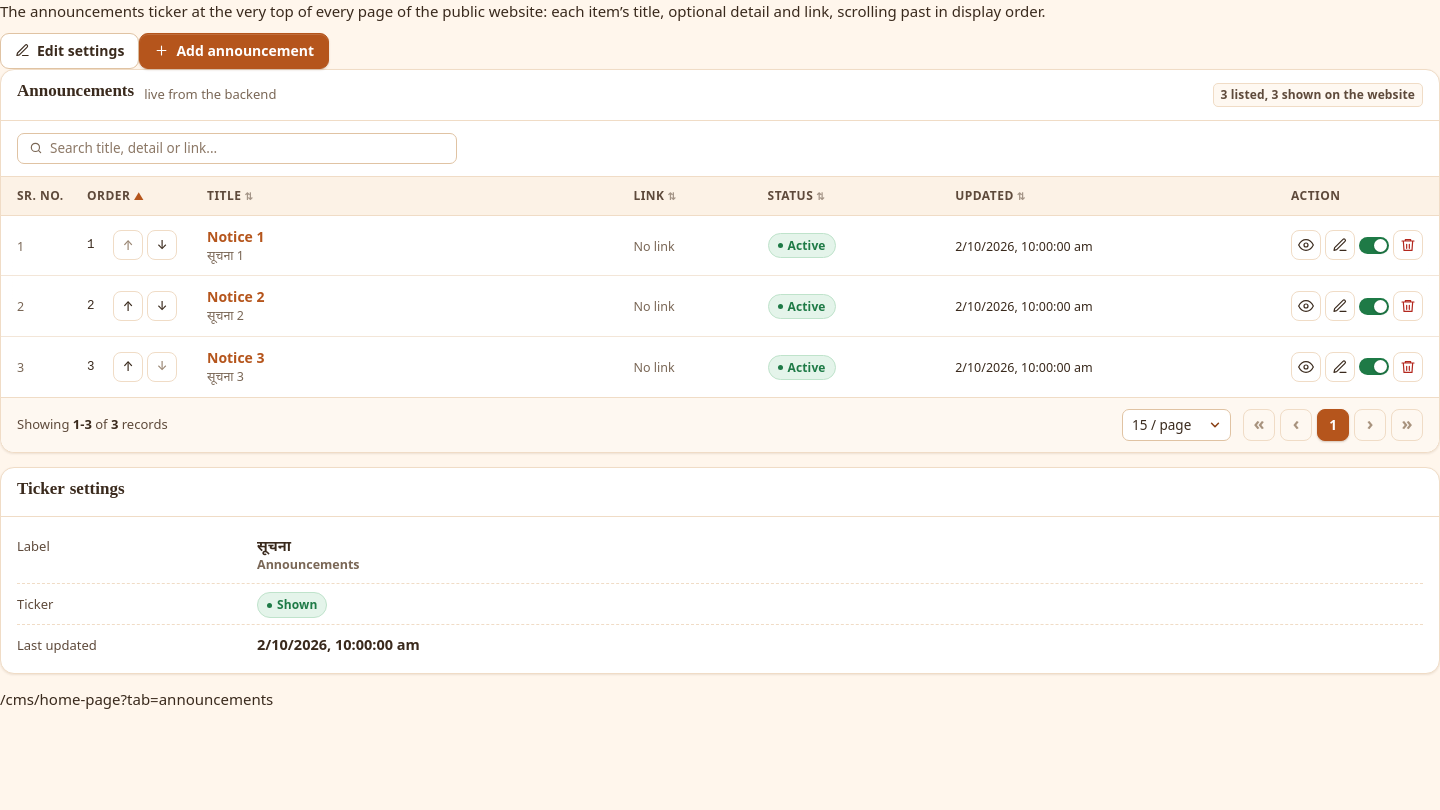
Announcements list › deletes the announcement named in the dialog, by id — and Cancel deletes nothing
Expected: the text "Notice 2" is shown, 207,287 -> 264,306
Click the button named "Delete Notice 2". click: (1408, 306)
box: 1393,291 -> 1423,321
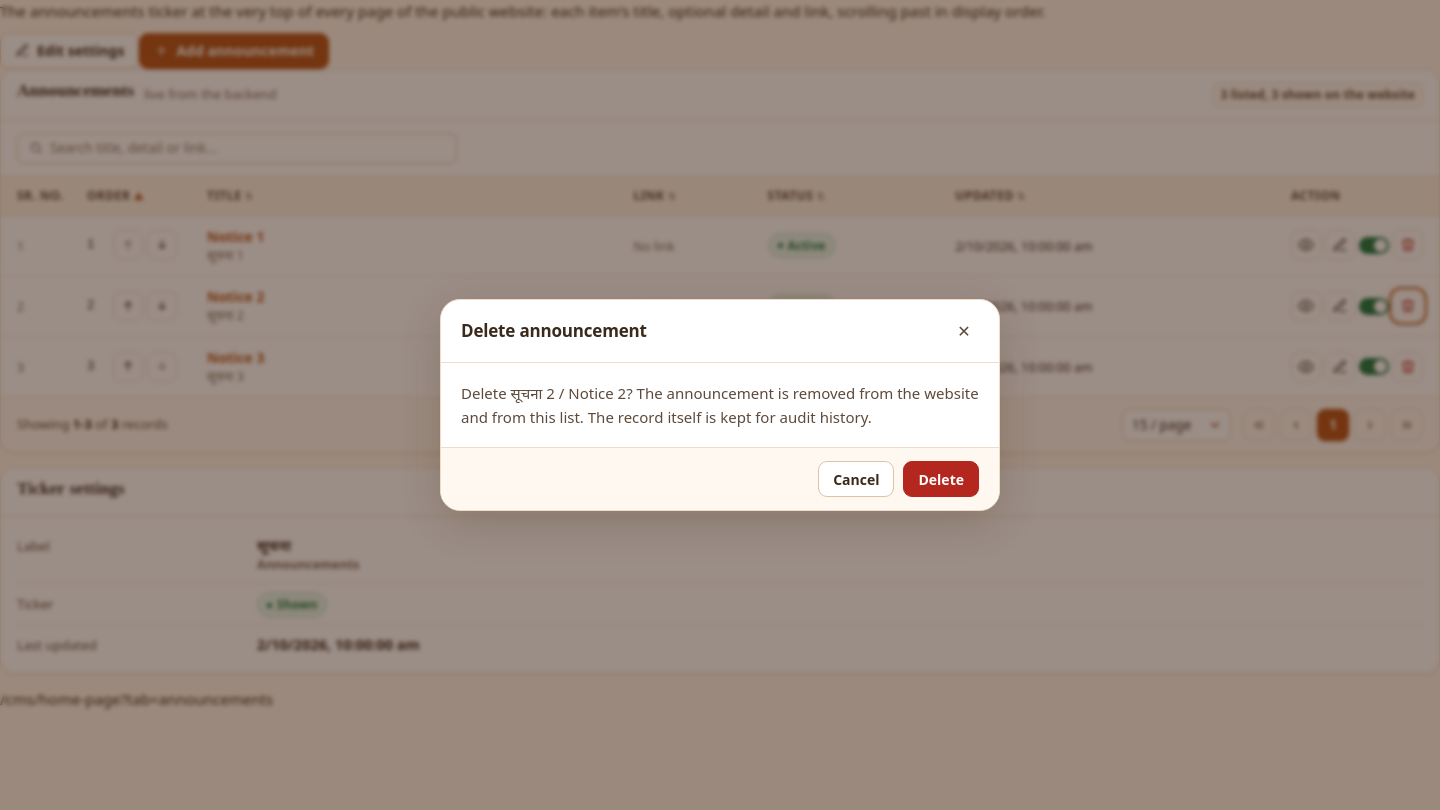
Expected: the dialog shows "Delete सूचना 2 / Notice 2?", 461,383 -> 979,427
Click the button "Cancel". click: (856, 479)
box: 818,461 -> 894,497
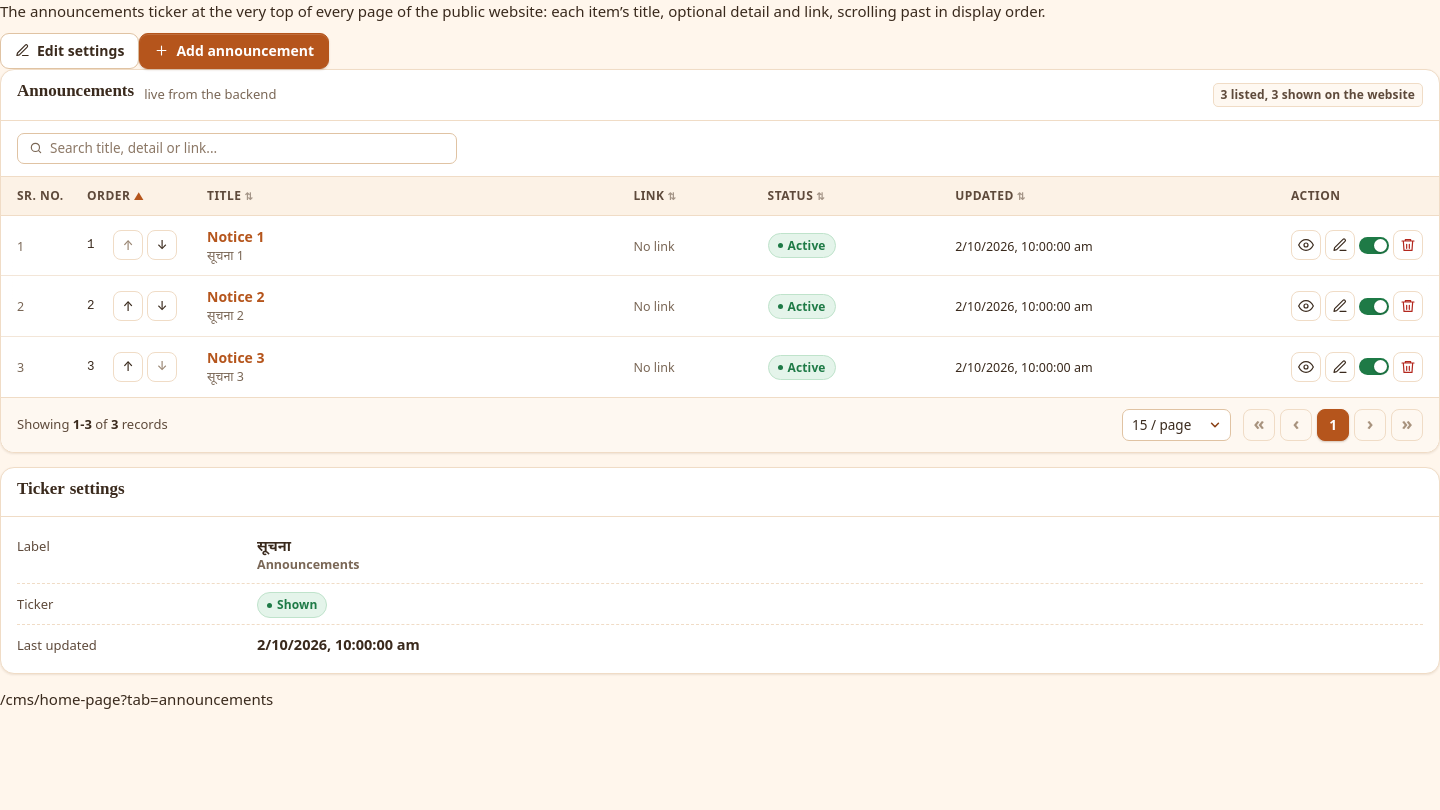
Click the button named "Delete Notice 2". click: (1408, 306)
box: 1393,291 -> 1423,321
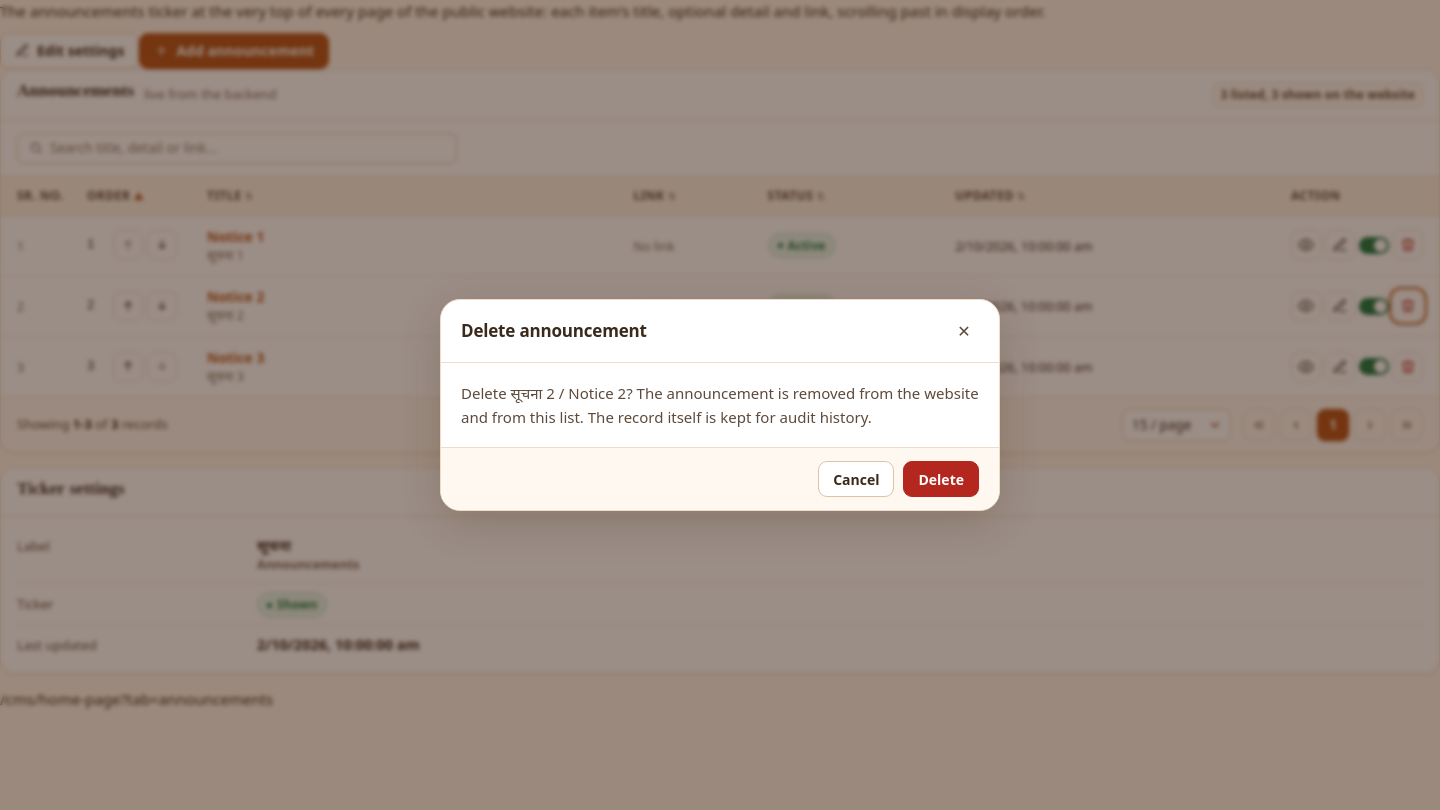
Click the button "Delete". click: (941, 479)
box: 904,461 -> 979,497
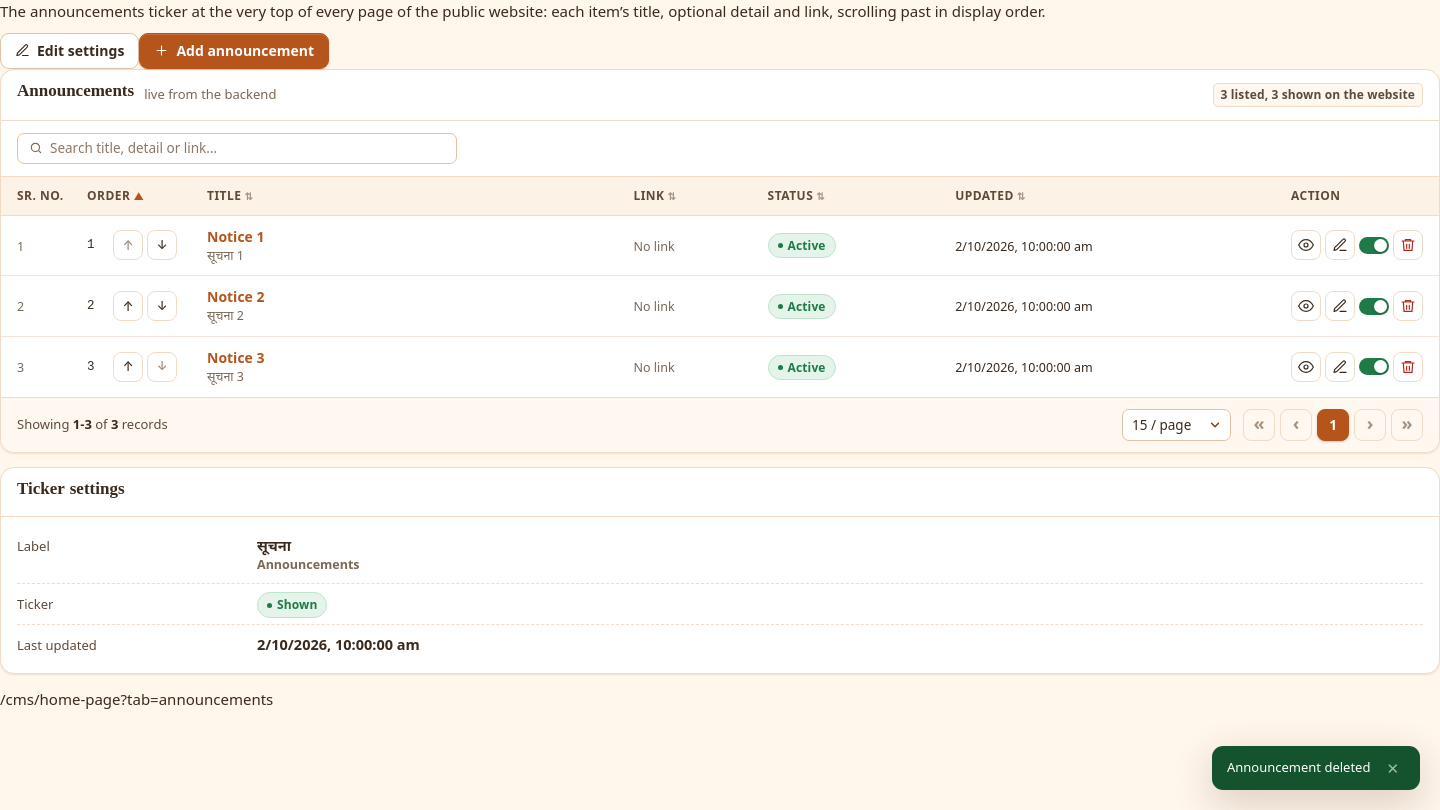
Expected: the text with test id "location" reads "/cms/home-page?tab=announcements", 0,689 -> 273,709
Expected: the element with id "toast-root" shows "Announcement deleted", 1227,758 -> 1370,776
